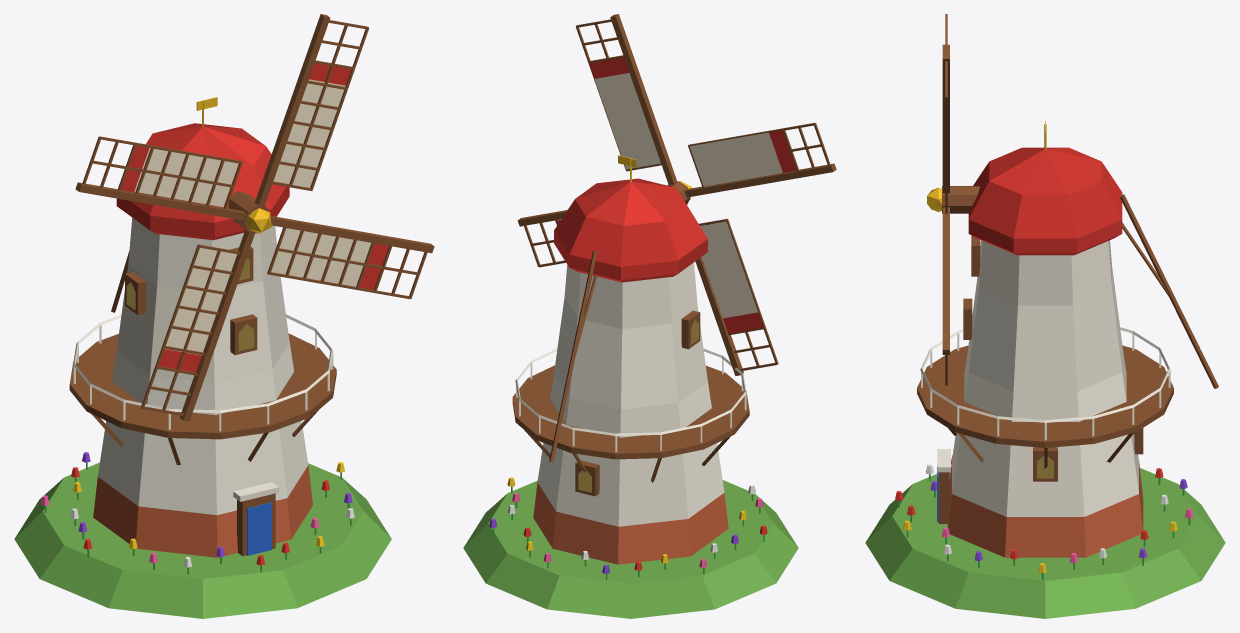
The model's file is windmill.glb.
The picture shows the model from 3 angles, left to right: view 1: azimuth 30°, elevation 25°; view 2: azimuth 150°, elevation 25°; view 3: azimuth 270°, elevation 25°; orthographic projection. The views are drawn at different scales.
Parts seen in each view (by area): view 1: windmill; view 2: windmill; view 3: windmill.
Boxes of the visible parts, x1,y1,x2,y2 form: windmill: (14,14,434,618); windmill: (463,14,836,618); windmill: (865,14,1225,618).
Bounding box in the file's own units: 17.39 × 25.5 × 16.
2 materials, 2 textured.
